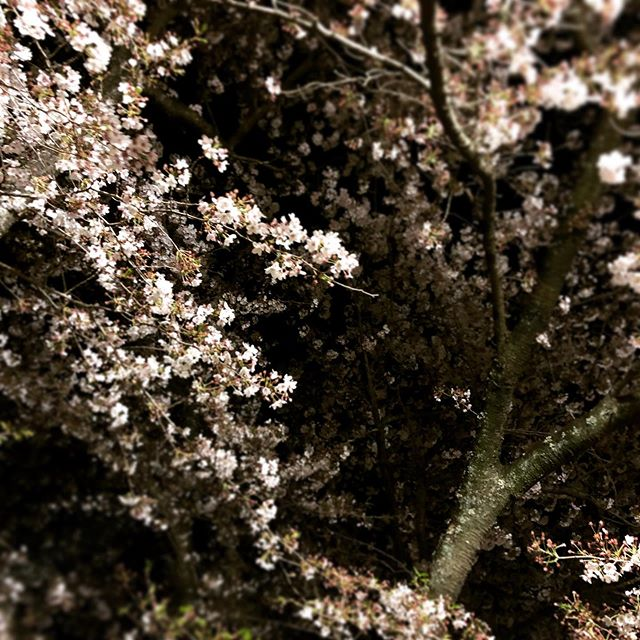vegetation: (1, 1, 629, 631)
